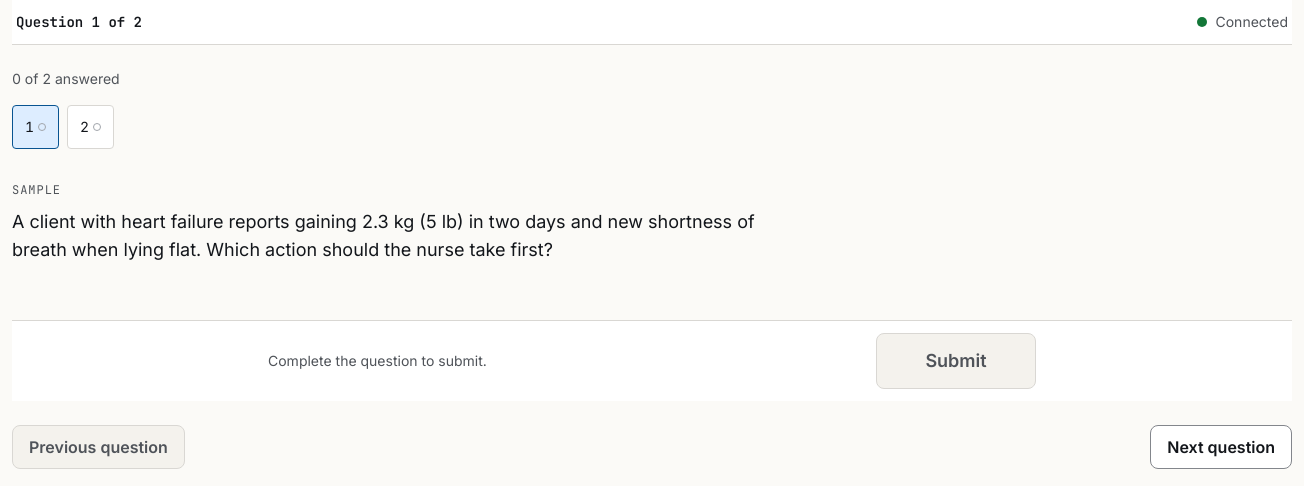
StudentPacedRoom: someone else joins or leaves (#408) › commits nothing for 50 joins while the set is on the screen; a move still commits
The width and height of the screenshot is (1304, 486).
# The control: this phone moving to its next item does commit.
Click the button "Next question": (1221, 447) x1=1150 y1=425 x2=1292 y2=469
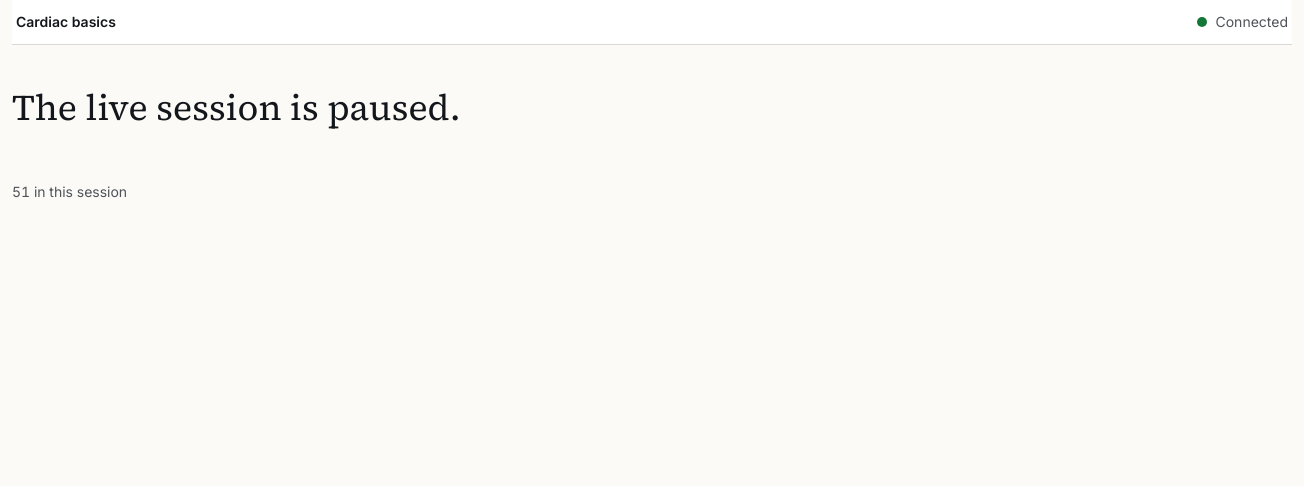
Check: the element with test id "room-count" reads "51 in this session", box x1=12 y1=183 x2=127 y2=200
